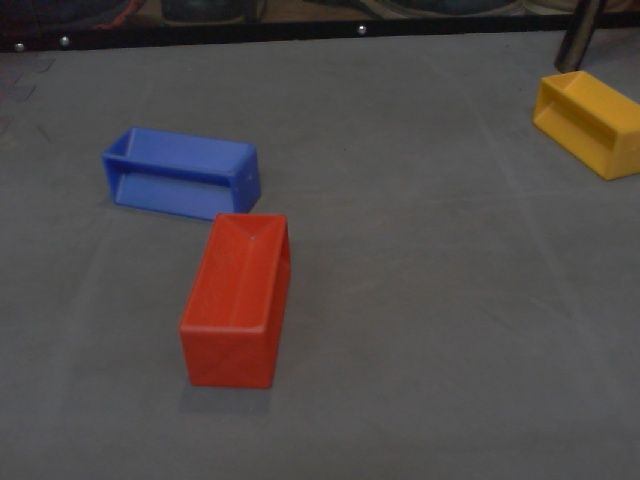BlueSample: (99, 125, 262, 225)
RedSample: (174, 209, 292, 393)
YellowSample: (530, 69, 640, 181)
